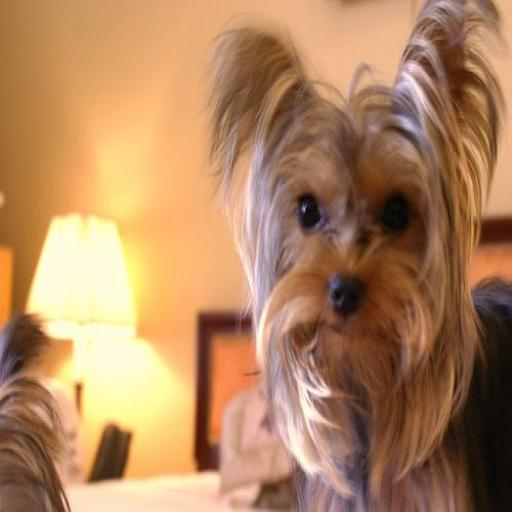dog_face: (216, 16, 475, 386)
